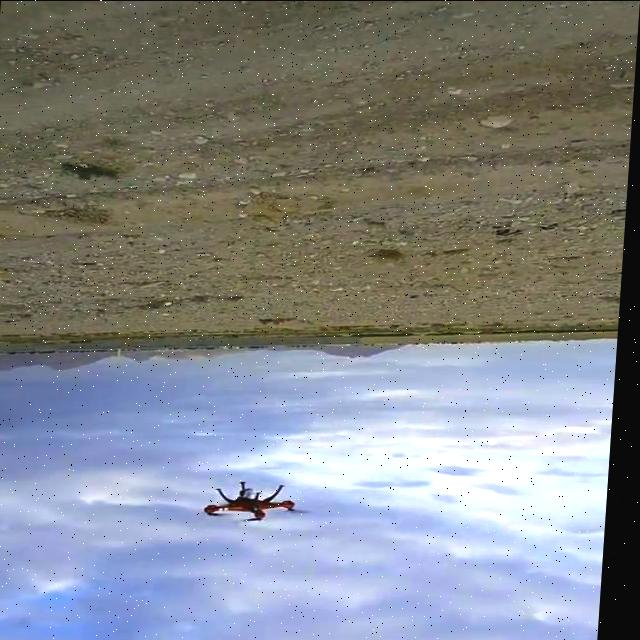drone: (199, 478, 322, 526)
